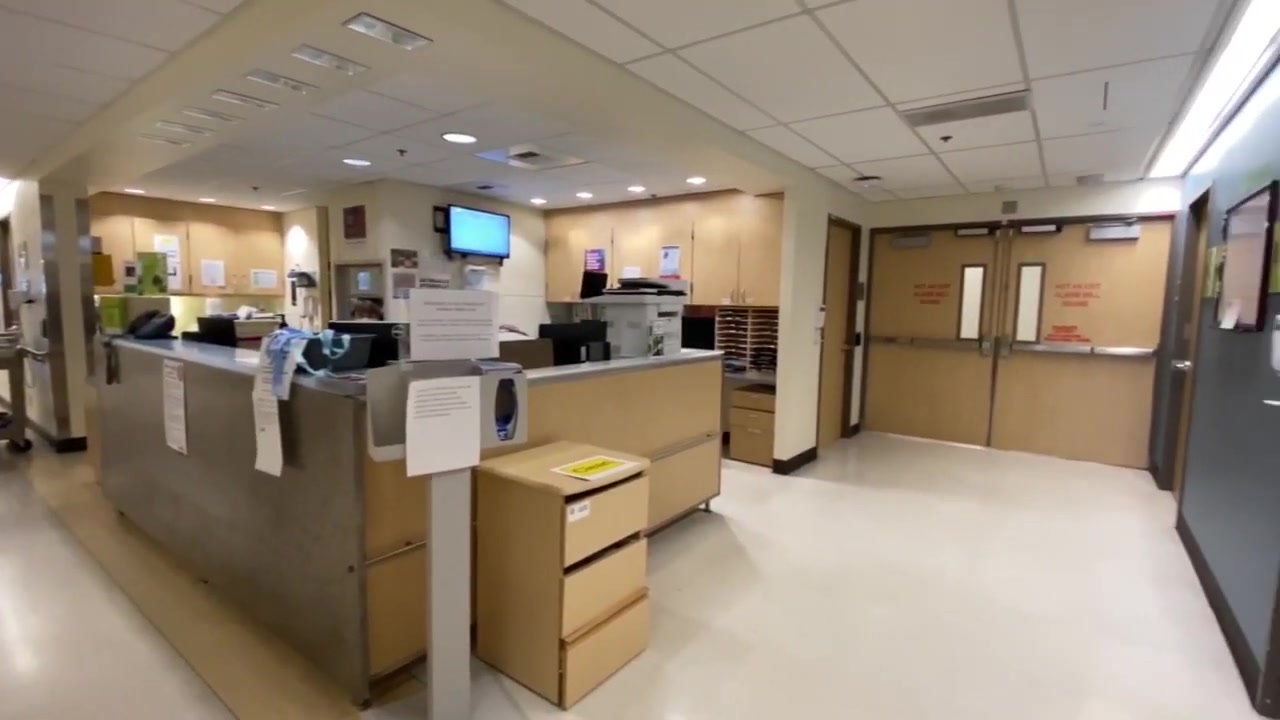TV: (448, 204, 510, 258)
cabinet: (545, 195, 778, 308), (91, 195, 286, 298)
computer: (328, 320, 412, 360), (538, 320, 608, 366), (186, 318, 236, 345), (580, 271, 608, 299)
counter: (361, 350, 722, 720), (102, 336, 362, 698)
countertop: (105, 337, 359, 395), (522, 349, 725, 382)
dispenser: (474, 358, 531, 445), (812, 305, 826, 344)
door_handle: (1262, 394, 1280, 410), (1171, 359, 1193, 371)
drawer: (729, 383, 776, 467)
handle: (739, 288, 747, 304), (729, 288, 735, 303), (747, 428, 761, 434), (748, 414, 760, 419), (750, 395, 760, 398)
push_latch: (999, 337, 1156, 358), (869, 335, 994, 356)
table: (476, 440, 651, 711)
telephone: (125, 309, 177, 340)
